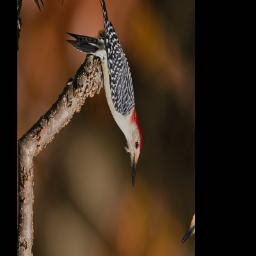Woodpecker: (47, 0, 170, 189)
